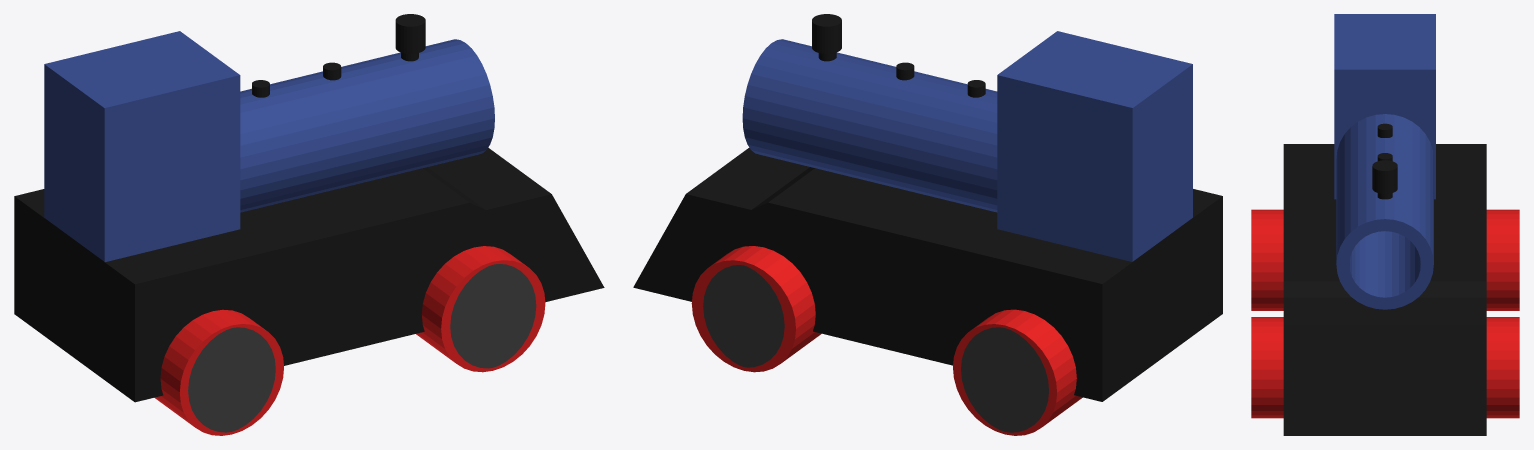
File: Mini Train.fbx
3 renders of one model, left to right at view 1: azimuth 30°, elevation 25°; view 2: azimuth 150°, elevation 25°; view 3: azimuth 270°, elevation 25°, orthographic. The views are drawn at different scales.
Parts seen in each view (by area): view 1: Cube; view 2: Cube; view 3: Cube.
Boxes of the visible parts, x1,y1,x2,y2 form: Cube: [14, 14, 604, 435]; Cube: [633, 14, 1222, 435]; Cube: [1251, 14, 1519, 435].
Bounding box in the file's own units: 9 × 5.66 × 5.3.
